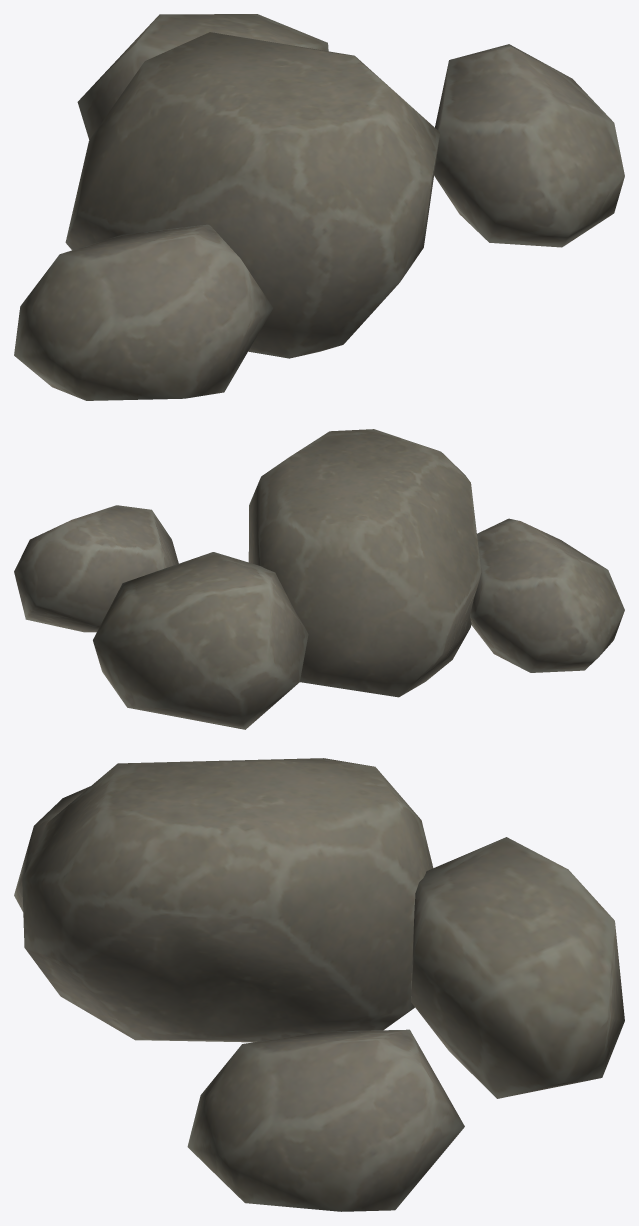
File: MSH_fwOF_Debris_06.fbx
The picture shows the model from 3 angles, top to bottom: view 1: azimuth 30°, elevation 25°; view 2: azimuth 150°, elevation 25°; view 3: azimuth 270°, elevation 25°; orthographic projection. The views are drawn at different scales.
Visible parts, largest first — view 1: MSH_fwOF_Debris_06_LOD0; view 2: MSH_fwOF_Debris_06_LOD0; view 3: MSH_fwOF_Debris_06_LOD0.
Part boxes in pixels (left/top/right/bottom): MSH_fwOF_Debris_06_LOD0: left=14, top=14, right=624, bottom=400; MSH_fwOF_Debris_06_LOD0: left=14, top=429, right=624, bottom=729; MSH_fwOF_Debris_06_LOD0: left=14, top=758, right=624, bottom=1211.
Size of what is drawn, in the model's own units: 0.7719 by 0.2658 by 0.5707.
